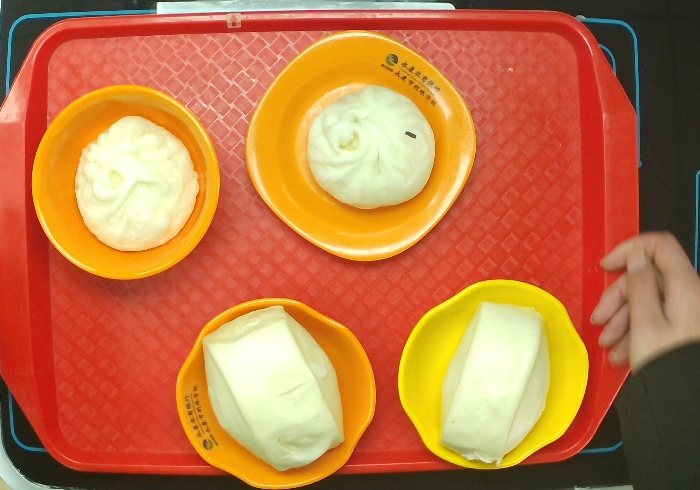YKMZ-Ju_Se_Fang_Die: (246, 30, 475, 260)
